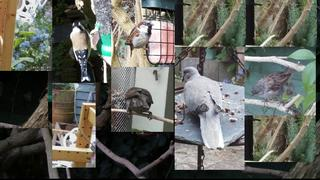collared dove: (182, 67, 224, 150)
dunnock: (250, 67, 296, 108)
goldfinch: (70, 20, 91, 82)
sparrow: (124, 20, 155, 58)
starling: (126, 87, 154, 121)
